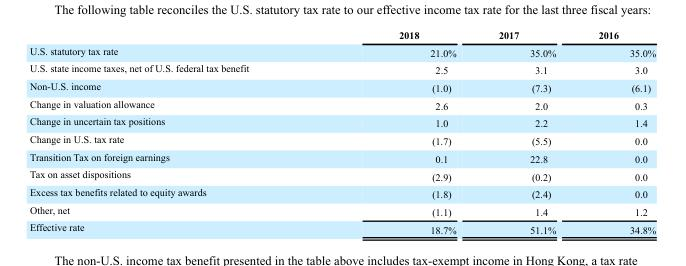table: (28, 29, 655, 234)
table column: (28, 29, 323, 234), (323, 29, 476, 234), (476, 29, 576, 234), (576, 29, 655, 234)
table column header: (28, 29, 655, 42)
table row: (28, 42, 655, 60), (28, 77, 655, 95), (28, 95, 655, 113), (28, 130, 655, 148), (28, 148, 655, 166), (28, 183, 655, 201), (28, 201, 655, 219), (28, 60, 655, 77), (28, 113, 655, 130), (28, 166, 655, 183), (28, 219, 655, 234), (28, 29, 655, 42)
